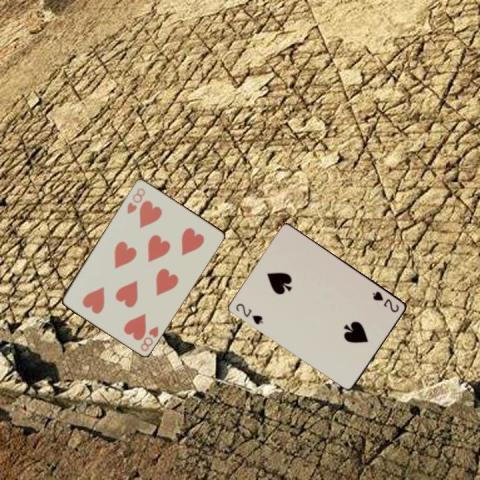2s: (233, 300, 265, 326), (370, 288, 401, 314)
8h: (124, 185, 147, 215), (137, 323, 160, 353)
